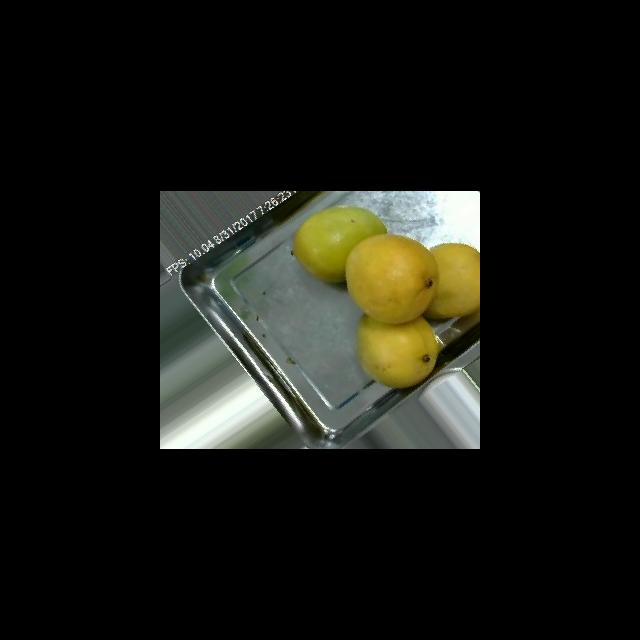Mango: (344, 233, 439, 324), (292, 205, 387, 283), (356, 314, 440, 389), (422, 242, 479, 319)
